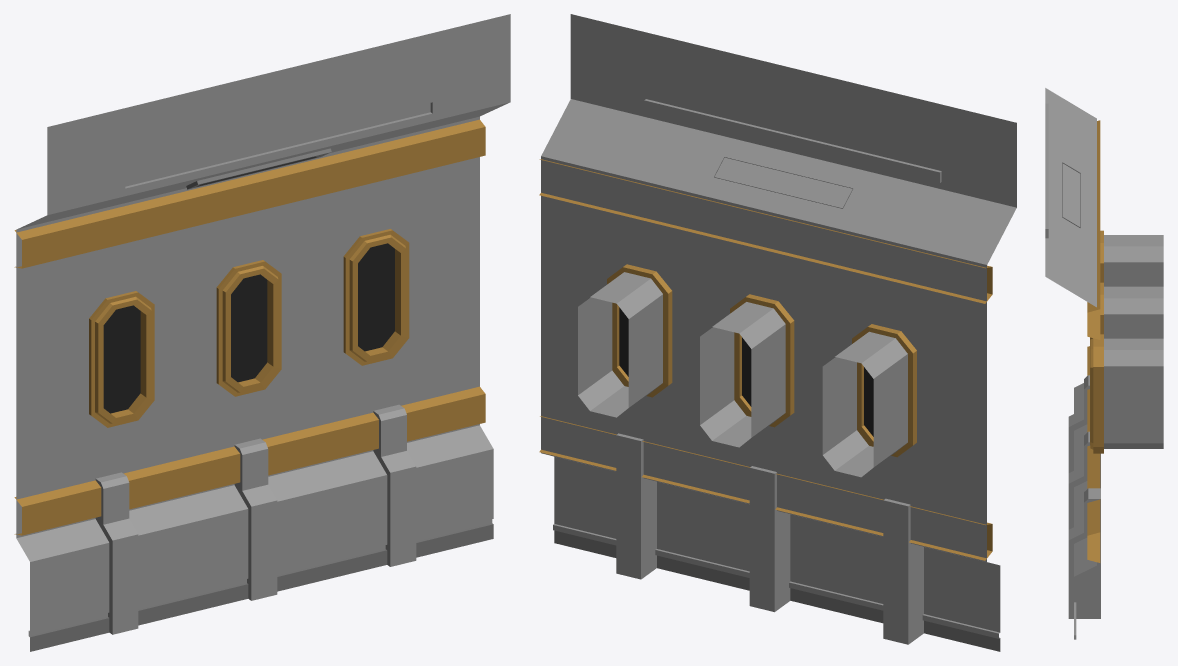
File: ThreeWindows_Wall_SideA.glb
The picture shows the model from 3 angles, left to right: view 1: azimuth 30°, elevation 25°; view 2: azimuth 150°, elevation 25°; view 3: azimuth 270°, elevation 25°; orthographic projection. The views are drawn at different scales.
Visible parts, largest first — view 1: ThreeWindows_Wall_SideA; view 2: ThreeWindows_Wall_SideA; view 3: ThreeWindows_Wall_SideA.
Part boxes in pixels (bbox=[...]): ThreeWindows_Wall_SideA: bbox=[14, 14, 510, 651]; ThreeWindows_Wall_SideA: bbox=[539, 14, 1016, 651]; ThreeWindows_Wall_SideA: bbox=[1045, 88, 1163, 639].
Bounding box in the file's own units: 1.36 × 1.51 × 0.3599.
